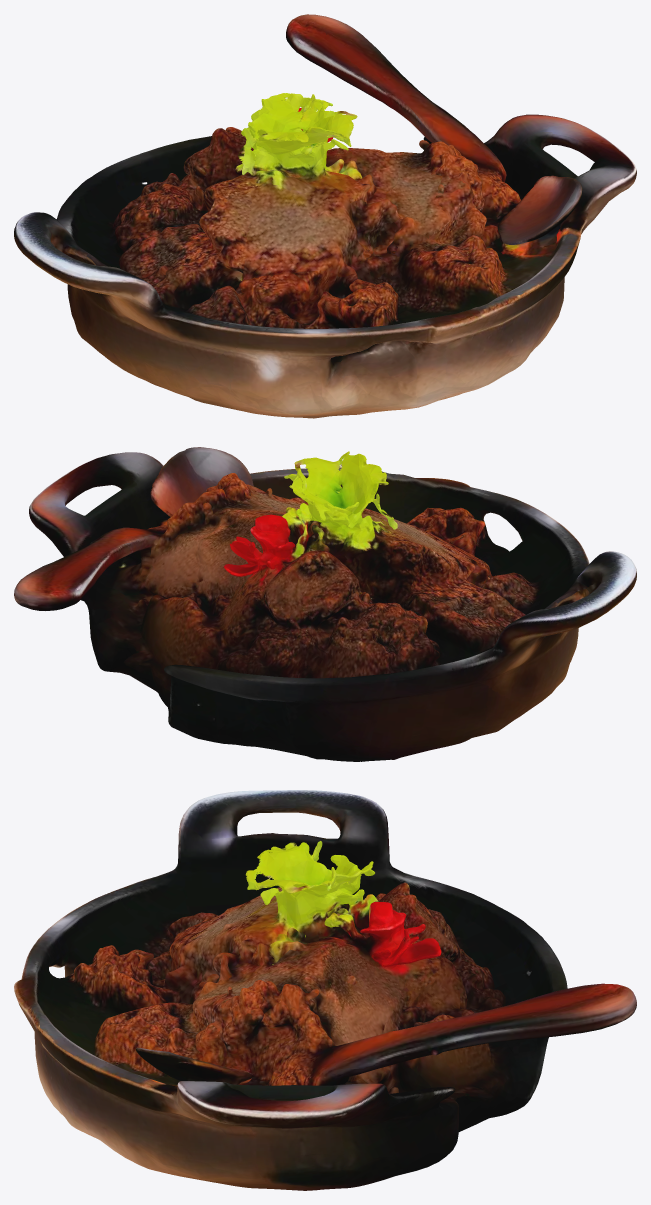
Rendered from rendang.glb.
The picture shows the model from 3 angles, top to bottom: view 1: azimuth 30°, elevation 25°; view 2: azimuth 150°, elevation 25°; view 3: azimuth 270°, elevation 25°; orthographic projection. The views are drawn at different scales.
Visible parts, largest first — view 1: Object_4; view 2: Object_4; view 3: Object_4.
Part boxes in pixels (x1,y1,x2,y2): Object_4: (14,14,636,418); Object_4: (14,447,636,761); Object_4: (14,790,636,1190).
Size of the model in its own units: 0.9998 by 0.4233 by 0.8832.
Materials: 1 (1 with a texture image).
